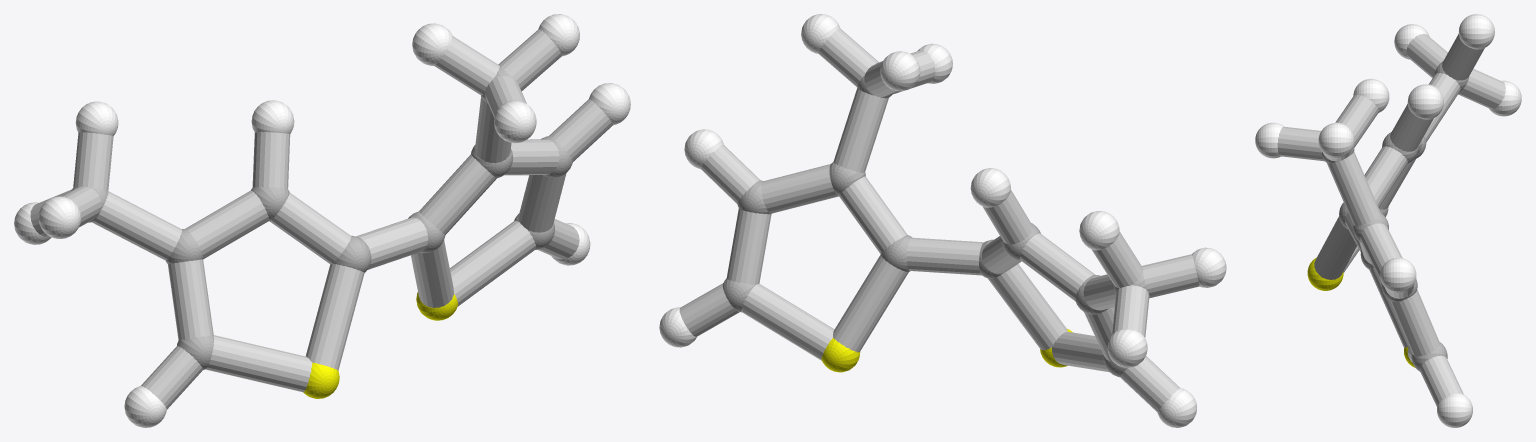
The model's file is Methylthiophene_Phi_30_Theta_230_Methylthiophene.glb.
3 renders of one model, left to right at view 1: azimuth 30°, elevation 25°; view 2: azimuth 150°, elevation 25°; view 3: azimuth 270°, elevation 25°, orthographic. The views are drawn at different scales.
Visible parts, largest first — view 1: grp7965, grp3621, grp1, grp7241; view 2: grp7965, grp3621, grp1, grp7241; view 3: grp7965, grp3621, grp1, grp7241.
Part boxes in pixels (bbox=[...]): grp7965: bbox=[30, 29, 612, 409]; grp3621: bbox=[14, 14, 630, 427]; grp1: bbox=[71, 66, 572, 369]; grp7241: bbox=[303, 292, 458, 398]; grp7965: bbox=[679, 28, 1199, 412]; grp3621: bbox=[659, 14, 1226, 427]; grp1: bbox=[723, 62, 1146, 377]; grp7241: bbox=[821, 329, 1072, 372]; grp7965: bbox=[1277, 33, 1505, 406]; grp3621: bbox=[1255, 14, 1521, 427]; grp1: bbox=[1322, 61, 1469, 371]; grp7241: bbox=[1307, 257, 1415, 367].
Bounding box in the file's own units: 9.36 × 5.06 × 4.43.
